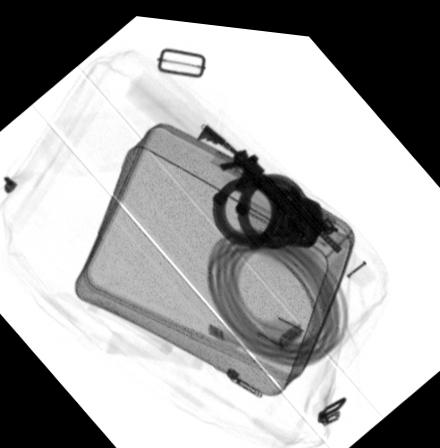Gun: (191, 114, 344, 248)
HandCuffs: (212, 166, 339, 244)
